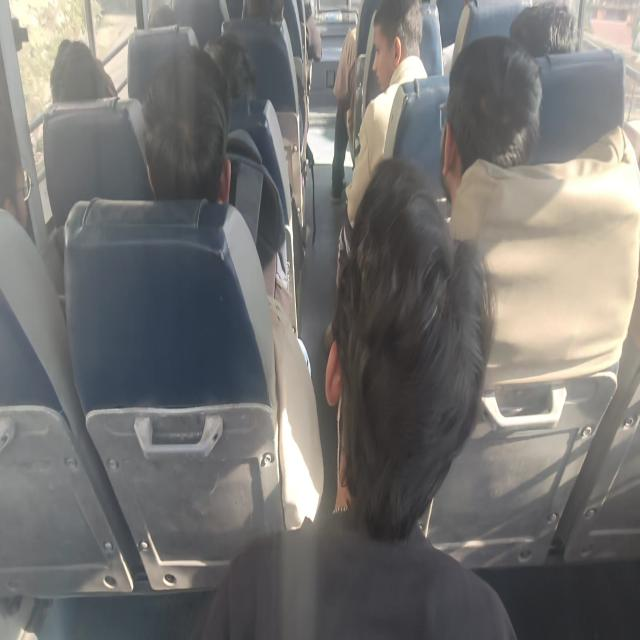person: (194, 157, 518, 638), (141, 46, 324, 530), (440, 34, 639, 383), (344, 0, 428, 228), (440, 34, 542, 206), (141, 46, 232, 204), (331, 0, 382, 203), (330, 26, 357, 202), (49, 38, 118, 102), (509, 2, 576, 57), (304, 1, 322, 61)
